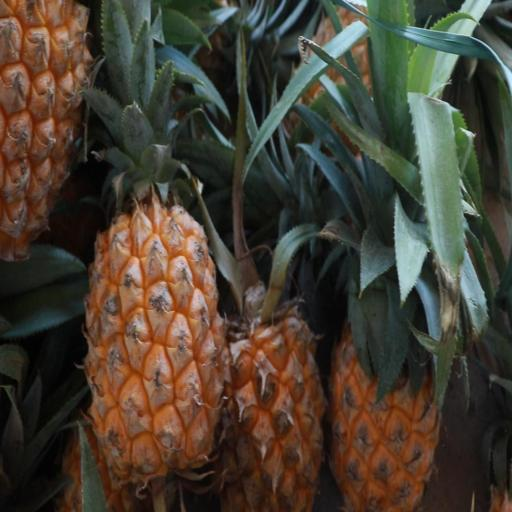Pineapple - v8 v1: (82, 122, 232, 484), (325, 187, 447, 512), (211, 252, 331, 512)
